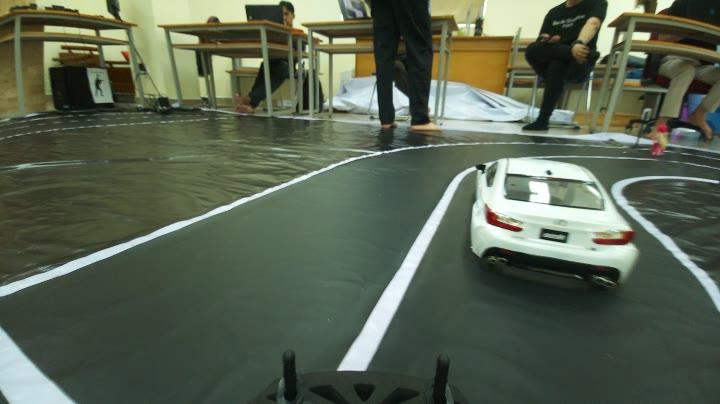car: (449, 139, 658, 306)
